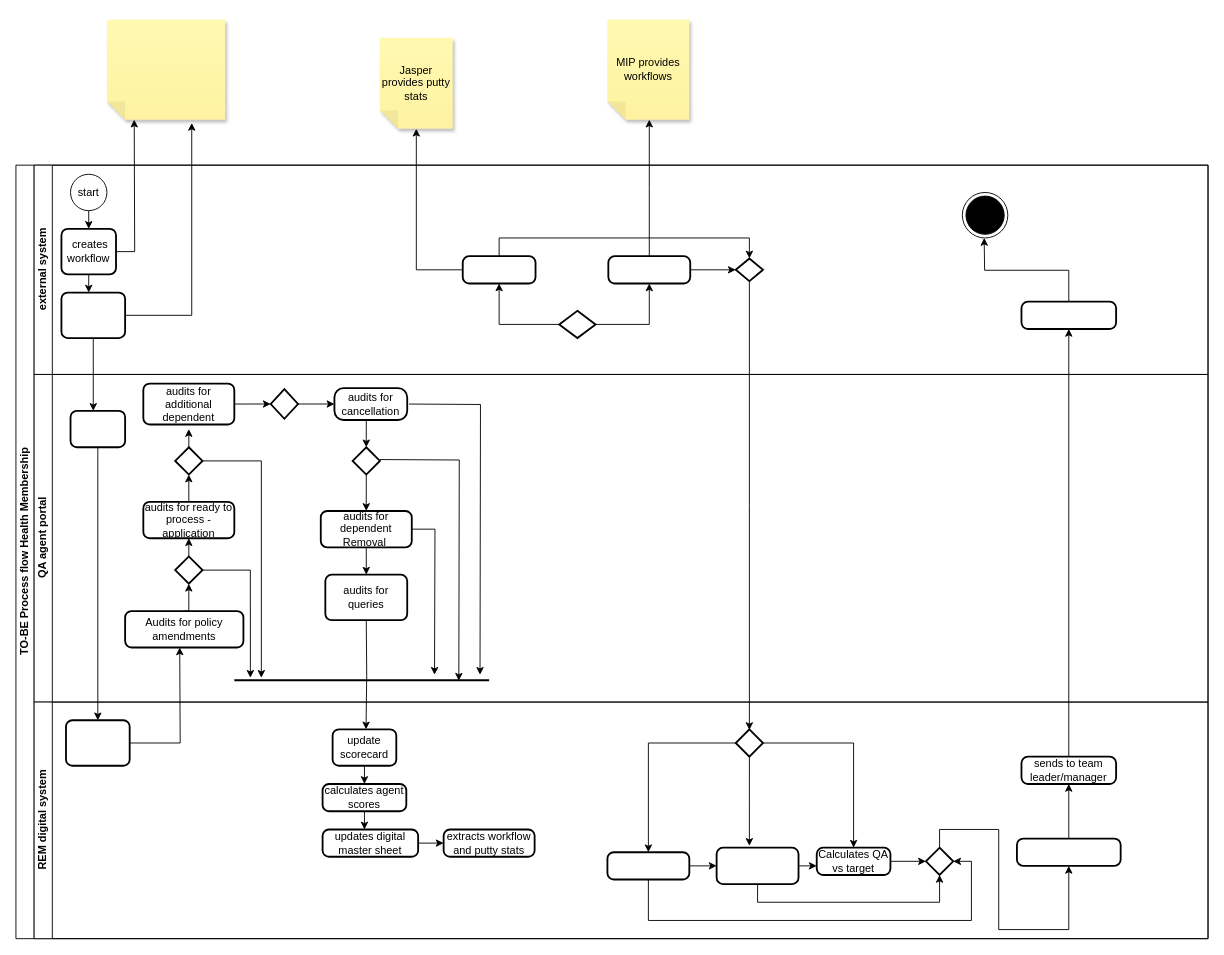
This 1224x955 diagram has some shape labels left out. Each missing label, with the centre of its shape:
"calculates days worked vs production days" goes at (757,865).
"calculates stats vs target" goes at (648,865).
"calculates the REM amount" goes at (1068,851).
"captures general information" goes at (97,742).
"captures interactions" goes at (93,315).
"go through work flow" goes at (97,429).
"MIP creates workflows and captures interactions" goes at (166,70).
"provide putty stats" goes at (498,269).
"provides workflow stats" goes at (649,269).
"Queues for payroll" goes at (1068,314).
